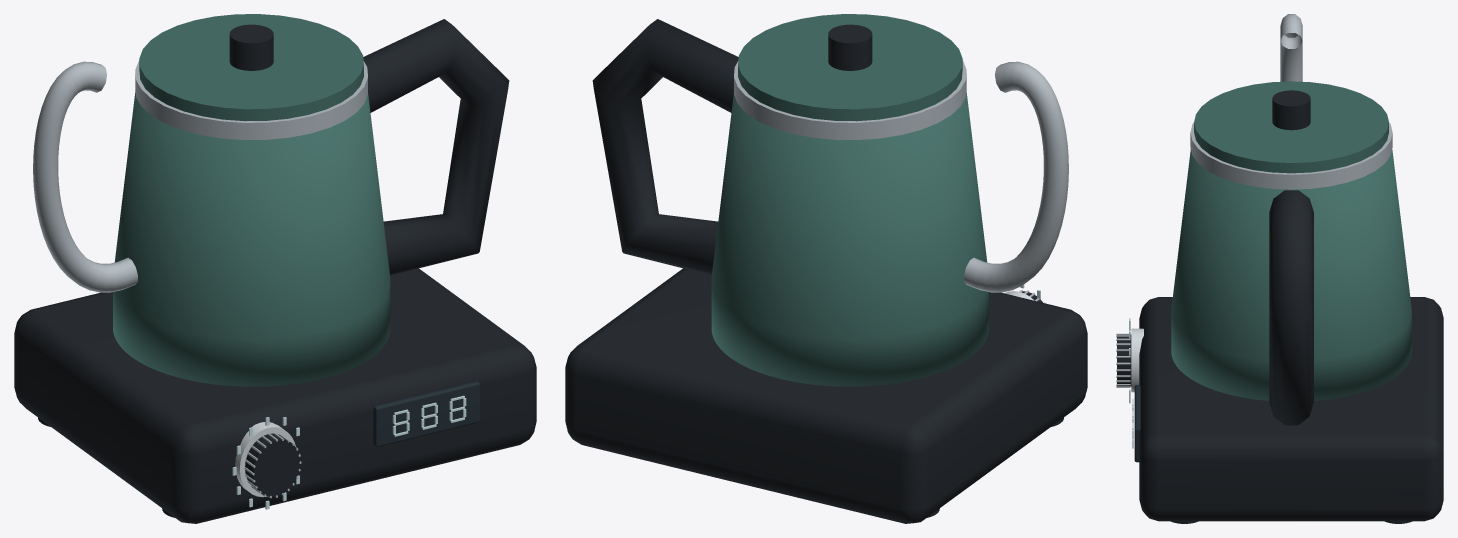
File: gooseneck-pro-kettle.glb
The picture shows the model from 3 angles, left to right: view 1: azimuth 30°, elevation 25°; view 2: azimuth 150°, elevation 25°; view 3: azimuth 270°, elevation 25°; orthographic projection. The views are drawn at different scales.
Parts seen in each view (by area): view 1: catalog_surface_RealismUV, catalog_surface_UVMap; view 2: catalog_surface_RealismUV; view 3: catalog_surface_RealismUV, catalog_surface_UVMap.
Boxes of the visible parts, left/top/right/bottom form: catalog_surface_RealismUV: left=14, top=14, right=536, bottom=523; catalog_surface_UVMap: left=232, top=381, right=479, bottom=509; catalog_surface_RealismUV: left=565, top=14, right=1087, bottom=523; catalog_surface_RealismUV: left=1116, top=14, right=1443, bottom=523; catalog_surface_UVMap: left=1129, top=318, right=1140, bottom=462.
Size of the model in its own units: 0.3 by 0.25 by 0.21.
